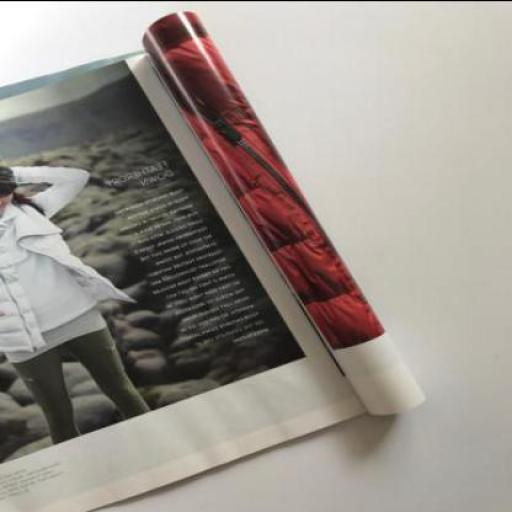paper: (0, 8, 426, 510)
